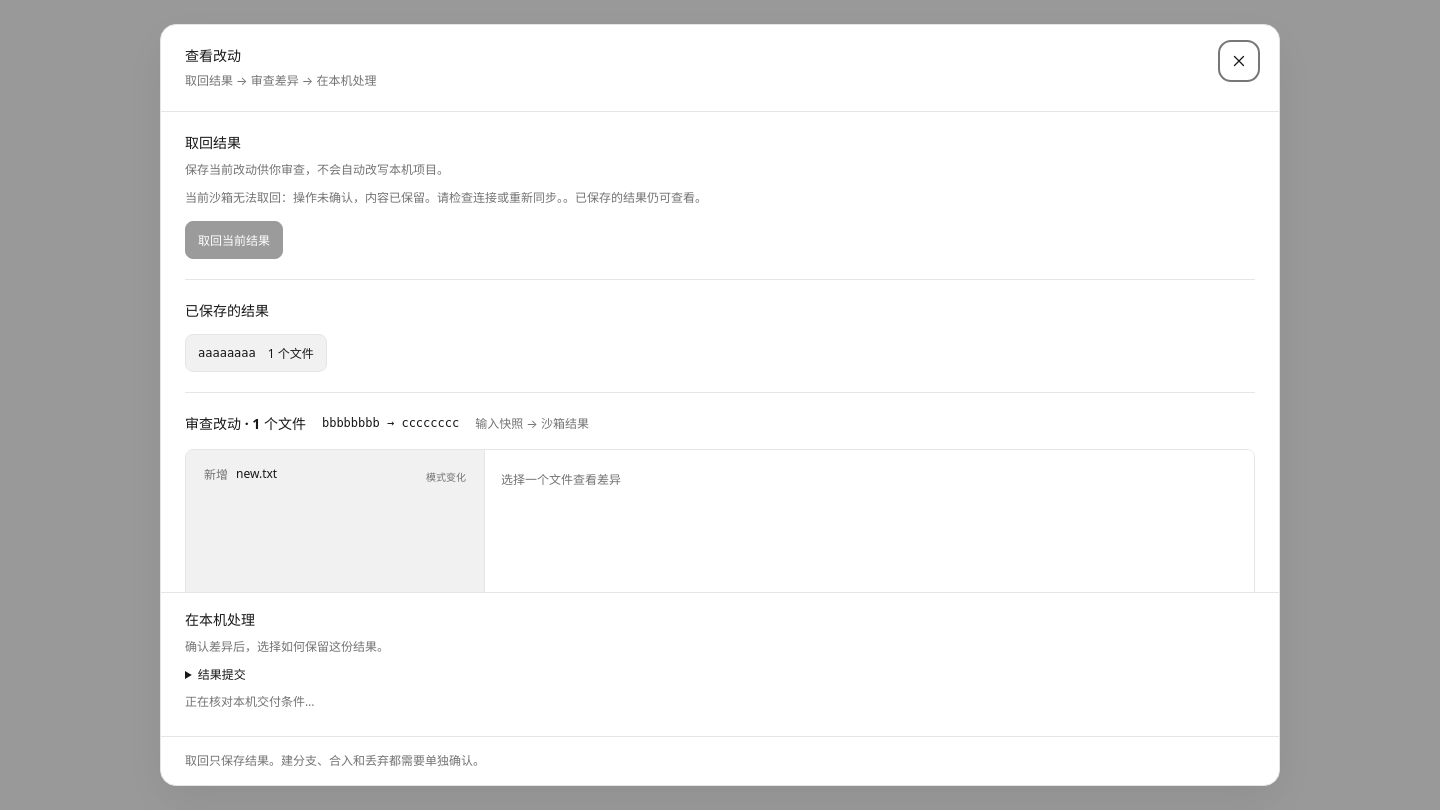
Test: can inspect saved results when the container is unavailable
Click the button with aria-label "查看结果 aaaaaaaa" at point(256, 353), box 185,334 -> 327,372
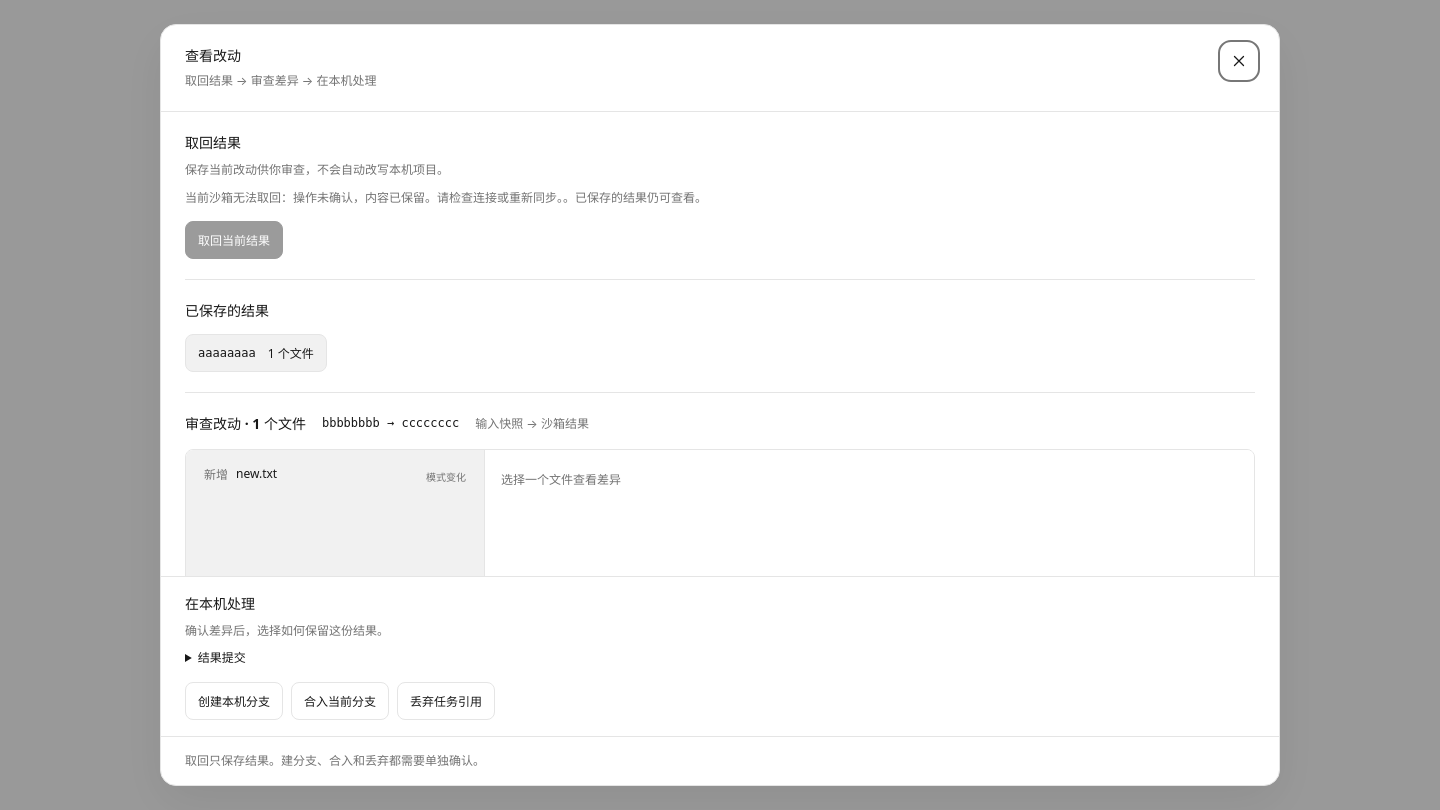
Click the button "新增 new.txt 模式变化" at point(257, 474), box 192,456 -> 478,495
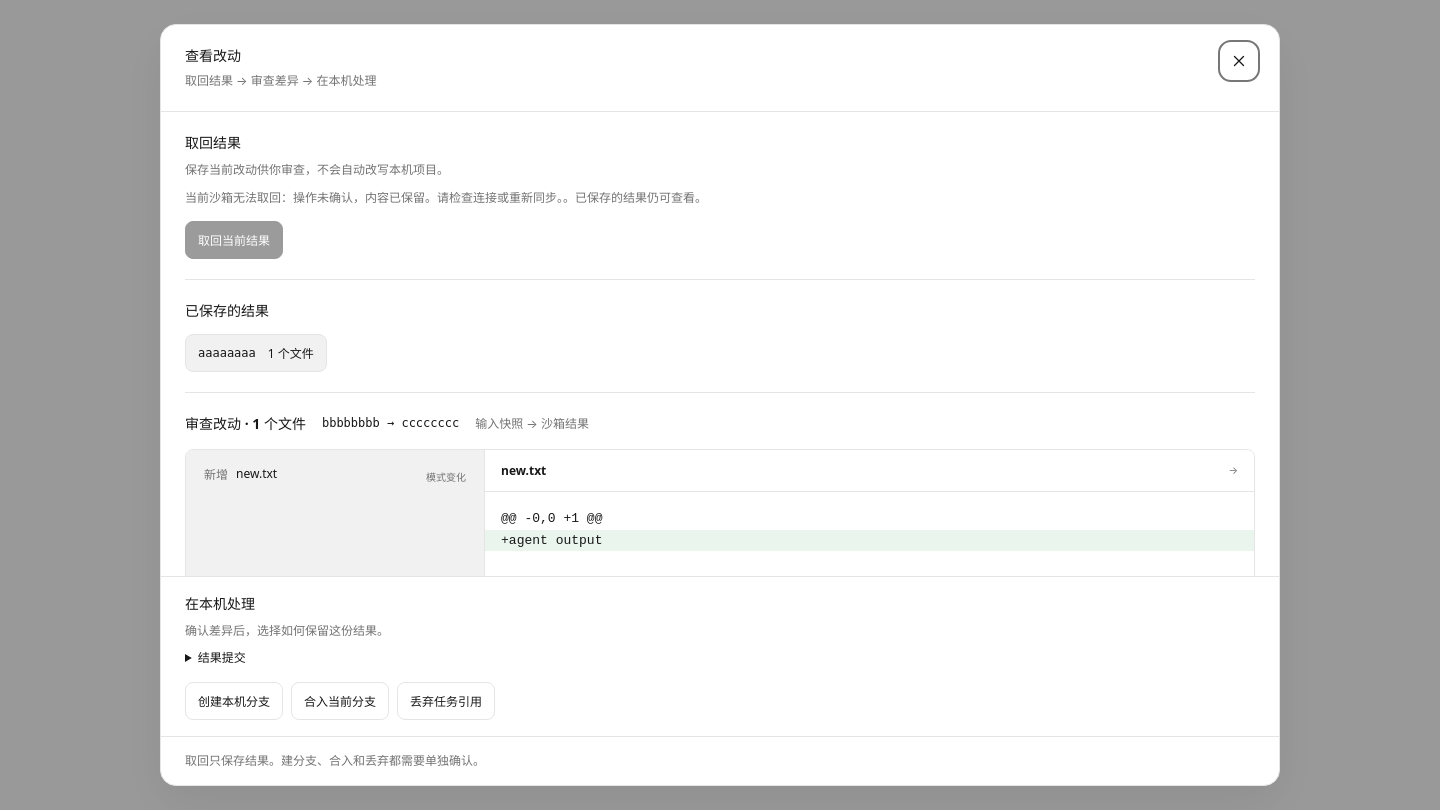
Expected: the element named "结果差异" is shown, 485,511 -> 1254,551
